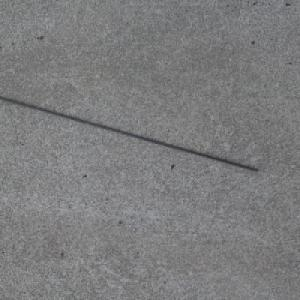LuggagePart: (0, 97, 261, 173)
